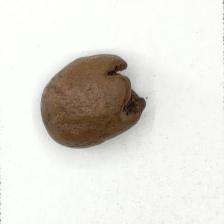NG: (101, 55, 146, 125)
